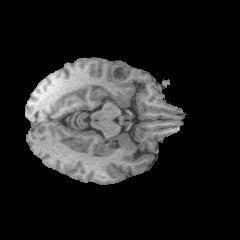glioma: (85, 58, 150, 103)
